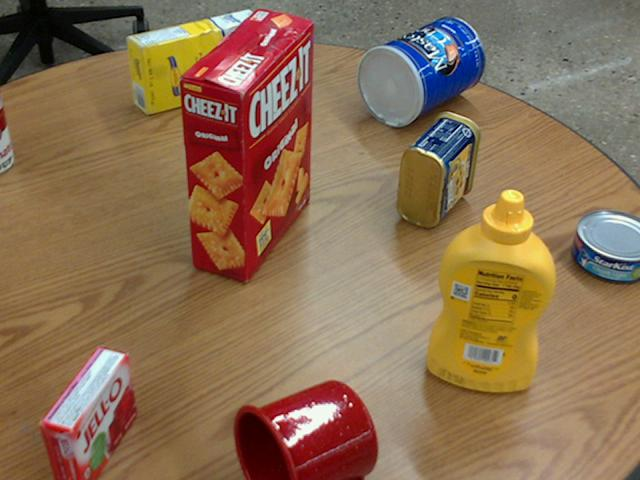cracker_box: (179, 9, 314, 281)
gelatin_box: (34, 346, 132, 479)
master_chef_can: (355, 16, 482, 125)
mug: (230, 380, 376, 479)
mustard_bottle: (425, 189, 554, 391)
potted_meat_can: (396, 111, 478, 226)
sugar_box: (126, 8, 263, 112)
tomato_soup_can: (0, 96, 11, 172)
tuna_fish_can: (569, 209, 639, 282)
